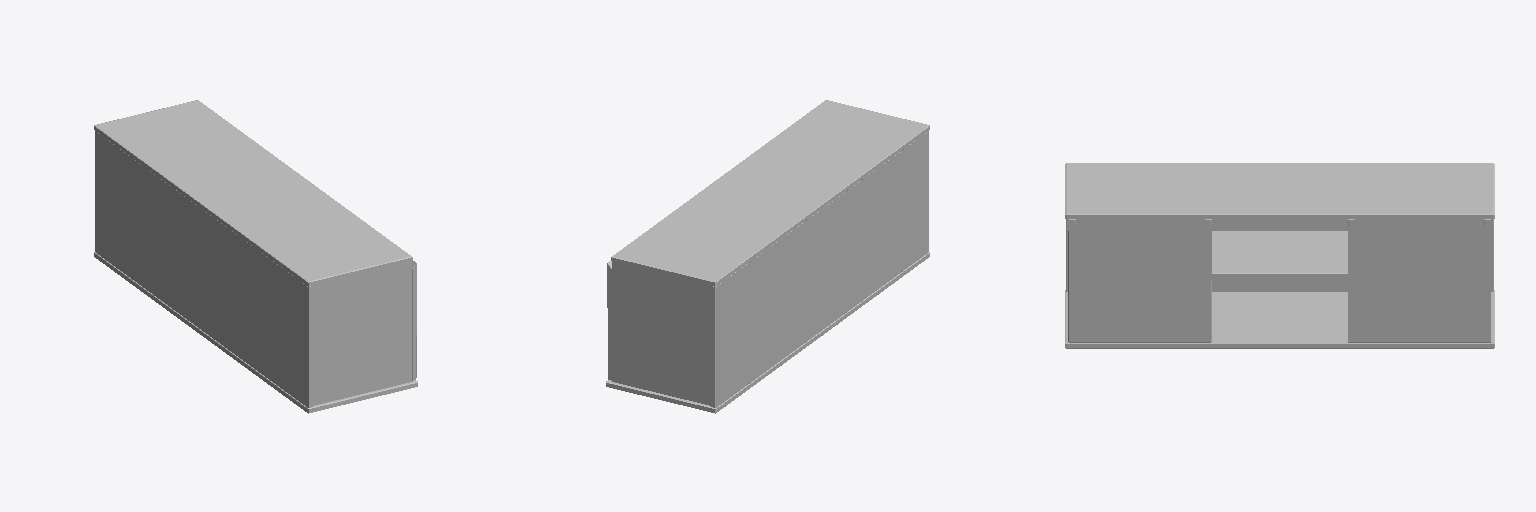
File: woodentable.obj
3 views of the same model, side by side, from view 1: azimuth 30°, elevation 25°; view 2: azimuth 150°, elevation 25°; view 3: azimuth 270°, elevation 25° (orthographic).
Parts seen in each view (by area): view 1: Back_Plank_Plane.005, Top_Plank_Plane.004, Middle_Planes_Plane.006, Bottom_Plank_Plane.003, Door_Plane.007; view 2: Back_Plank_Plane.005, Top_Plank_Plane.004, Middle_Planes_Plane.006, Bottom_Plank_Plane.003; view 3: Top_Plank_Plane.004, Door_Plane.007, Door_2_Plane.008, Bottom_Plank_Plane.003, Half_Planes_Plane, Cube_Cube.001, Back_Plank_Plane.005.
Part boxes in pixels (left/top/right/bottom): Back_Plank_Plane.005: left=95, top=131, right=312, bottom=407; Top_Plank_Plane.004: left=94, top=100, right=412, bottom=286; Middle_Planes_Plane.006: left=313, top=262, right=411, bottom=405; Bottom_Plank_Plane.003: left=94, top=252, right=417, bottom=413; Door_Plane.007: left=412, top=261, right=416, bottom=380; Back_Plank_Plane.005: left=711, top=131, right=928, bottom=407; Top_Plank_Plane.004: left=611, top=100, right=929, bottom=286; Middle_Planes_Plane.006: left=612, top=262, right=710, bottom=405; Bottom_Plank_Plane.003: left=606, top=252, right=929, bottom=413; Top_Plank_Plane.004: left=1065, top=163, right=1494, bottom=218; Door_Plane.007: left=1068, top=226, right=1211, bottom=342; Door_2_Plane.008: left=1348, top=226, right=1490, bottom=342; Bottom_Plank_Plane.003: left=1065, top=290, right=1494, bottom=348; Half_Planes_Plane: left=1212, top=231, right=1347, bottom=277; Cube_Cube.001: left=1076, top=219, right=1483, bottom=230; Back_Plank_Plane.005: left=1066, top=219, right=1493, bottom=291.
Bounding box in the file's own units: 0.475 × 0.54 × 1.6.